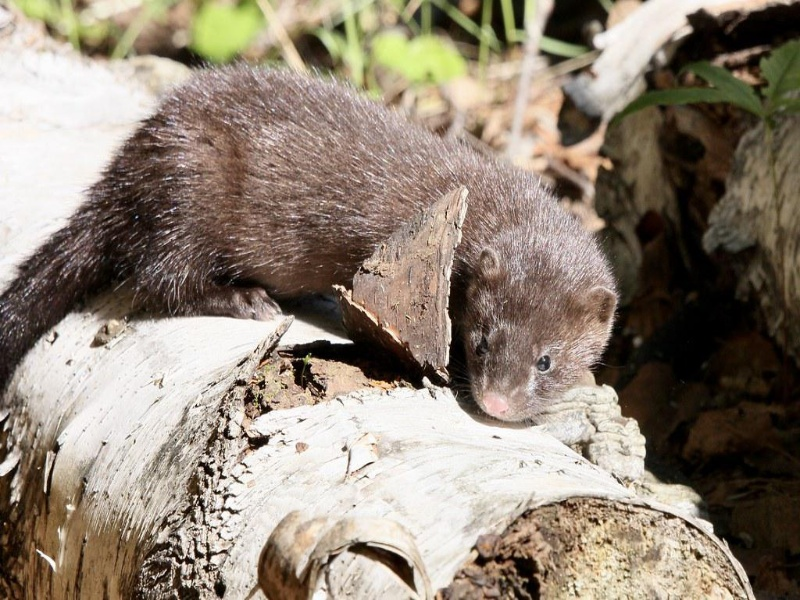minkish: (1, 59, 621, 431)
